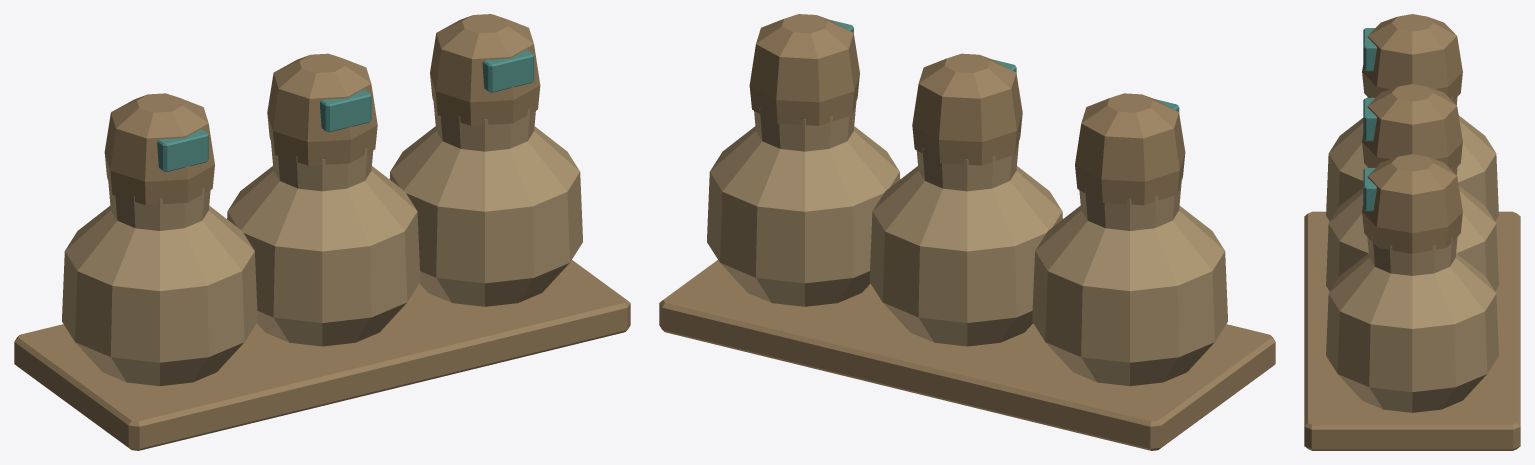
The model's file is canopic-trio.glb.
3 views of the same model, side by side, from view 1: azimuth 30°, elevation 25°; view 2: azimuth 150°, elevation 25°; view 3: azimuth 270°, elevation 25° (orthographic). The views are drawn at different scales.
Visible parts, largest first — view 1: canopic-trio__body; view 2: canopic-trio__body; view 3: canopic-trio__body.
Boxes of the visible parts, bbox=[...] form: canopic-trio__body: bbox=[14, 14, 630, 450]; canopic-trio__body: bbox=[659, 14, 1275, 450]; canopic-trio__body: bbox=[1304, 14, 1520, 450].
Bounding box in the file's own units: 0.71 × 0.385 × 0.3.
